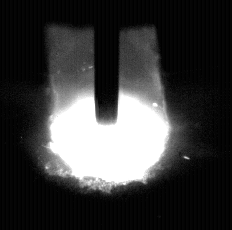arame: (95, 0, 120, 126)
poca: (49, 0, 170, 230)
